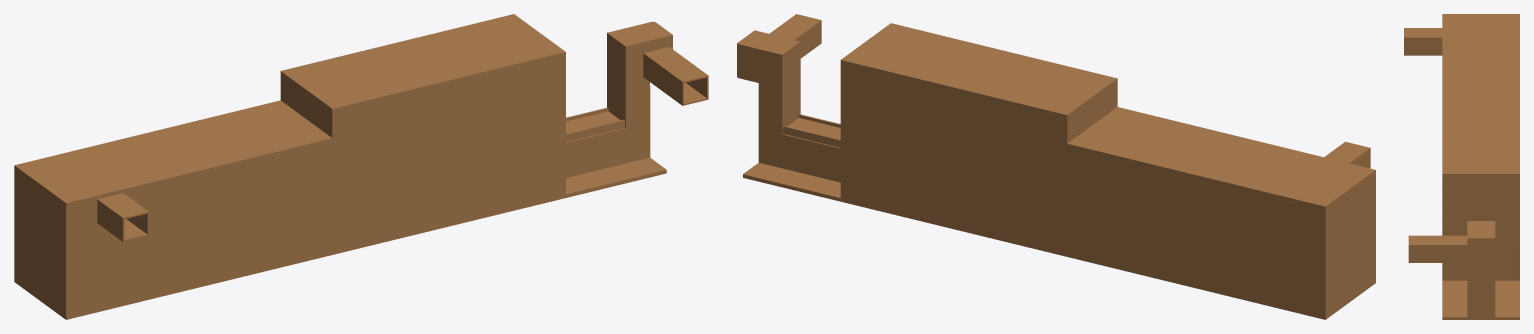
File: Tunnel_Track_01.fbx
The picture shows the model from 3 angles, left to right: view 1: azimuth 30°, elevation 25°; view 2: azimuth 150°, elevation 25°; view 3: azimuth 270°, elevation 25°; orthographic projection. The views are drawn at different scales.
Visible parts, largest first — view 1: Track_BG_01, Track_01; view 2: Track_BG_01, Track_01; view 3: Track_BG_01, Track_01.
Boxes of the visible parts, bbox=[...] form: Track_BG_01: bbox=[14, 14, 672, 319]; Track_01: bbox=[97, 22, 708, 241]; Track_BG_01: bbox=[737, 23, 1375, 319]; Track_01: bbox=[739, 14, 1370, 225]; Track_BG_01: bbox=[1442, 14, 1519, 319]; Track_01: bbox=[1404, 28, 1494, 318].
Size of the model in its own units: 35677 by 7988 by 7691.
